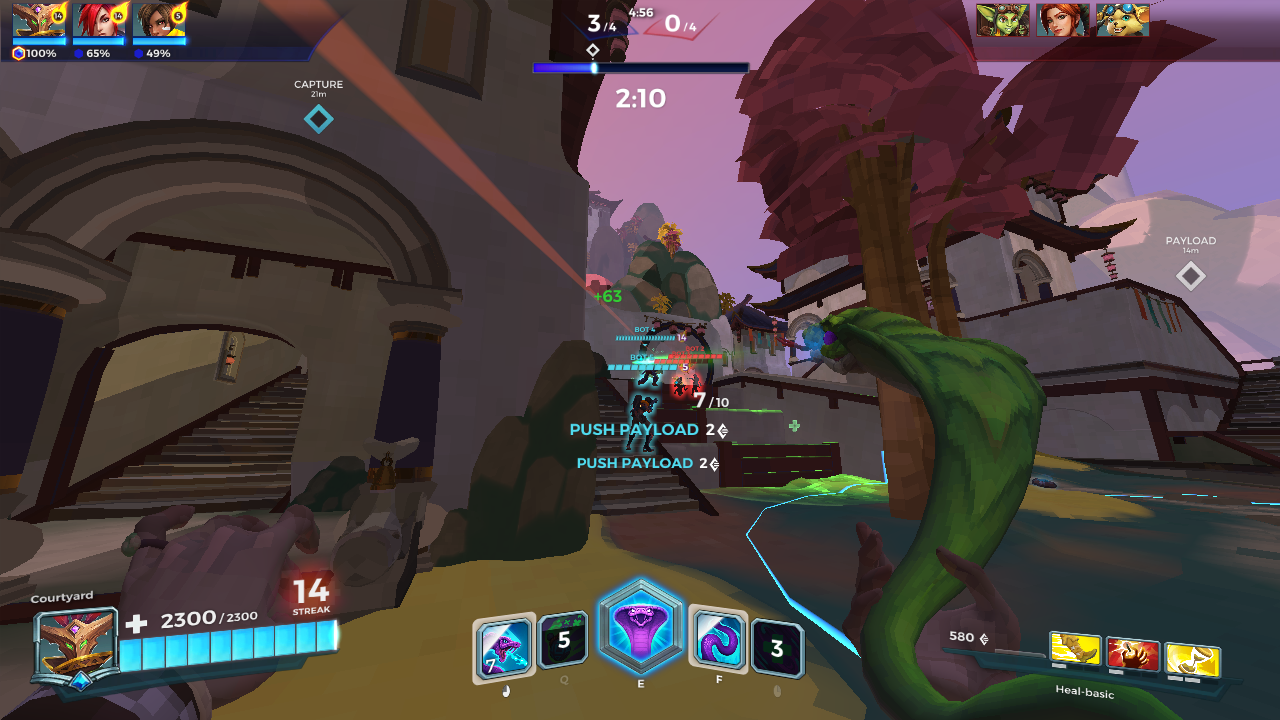model: (693, 372, 703, 400), (672, 374, 682, 398)
